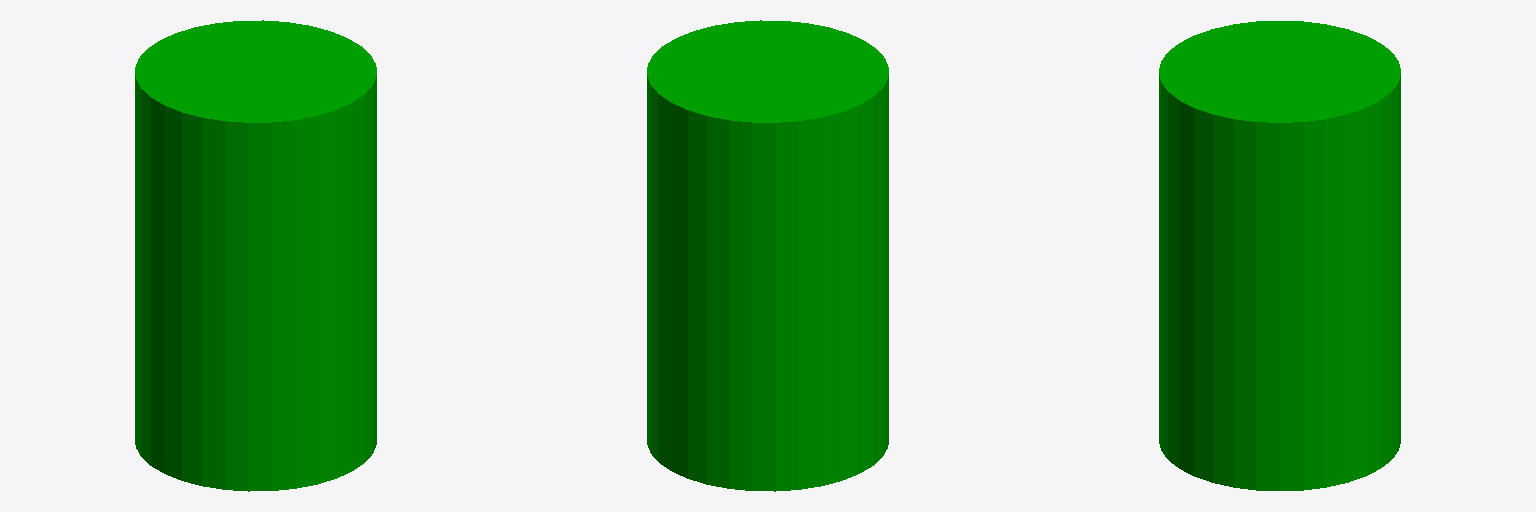
robot.urdf — model.urdf:
<?xml version="0.0" ?>
<robot name="model.urdf">

	<material name="green">
		<color rgba="0 0.7 0 1"/>
	</material>

	<link name="baseLink">
		<inertial>
			<mass value="0.612"/>
			<inertia  ixx="0.000617" ixy="0.00"  ixz="0.00" iyy="0.000617" iyz="0.00" izz="0.000497" />
		</inertial>
		<visual>
			<origin xyz="0 0 0" rpy="0 0 0"/>
			<geometry>
				<cylinder length="0.135" radius="0.0403"/>
			</geometry>
			<material name="green"/>
		</visual>
		<collision>
			<origin xyz="0 0 0" rpy="0 0 0"/>
			<geometry>
				<cylinder length="0.135" radius="0.0403"/>
			</geometry>
		</collision>
	</link>
</robot>

--- Render facts (derived) ---
3 views of the same robot in one strip: view 1: azimuth 30°, elevation 25°; view 2: azimuth 150°, elevation 25°; view 3: azimuth 270°, elevation 25° (orthographic).
Robot: model.urdf — 1 links, 0 joints (none); root link baseLink; default pose: every joint at zero.
Visible links, largest first — view 1: baseLink; view 2: baseLink; view 3: baseLink.
Link boxes in pixels (x1,y1,x2,y2): baseLink: (135,20,376,491); baseLink: (647,20,888,491); baseLink: (1159,21,1400,490).
Size in the robot's own frame: 0.0806 by 0.0806 by 0.135 metres.
Geometry: primitives only (box / cylinder / sphere), no mesh files.